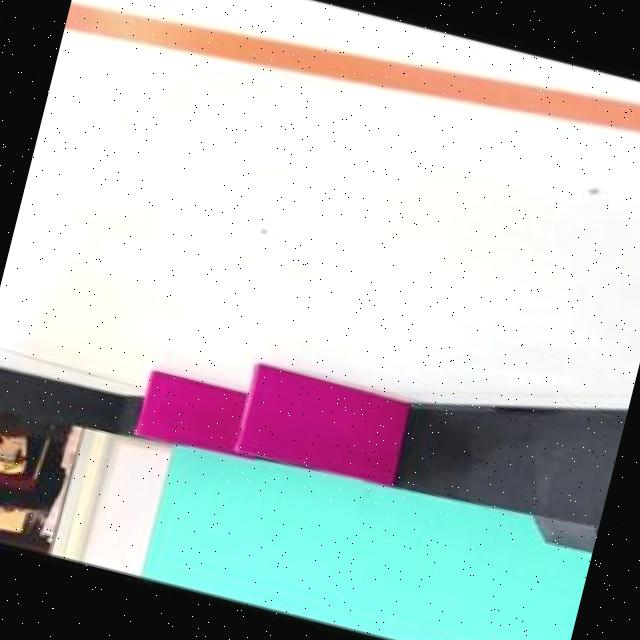xparking: (241, 364, 408, 484), (136, 371, 245, 454)
